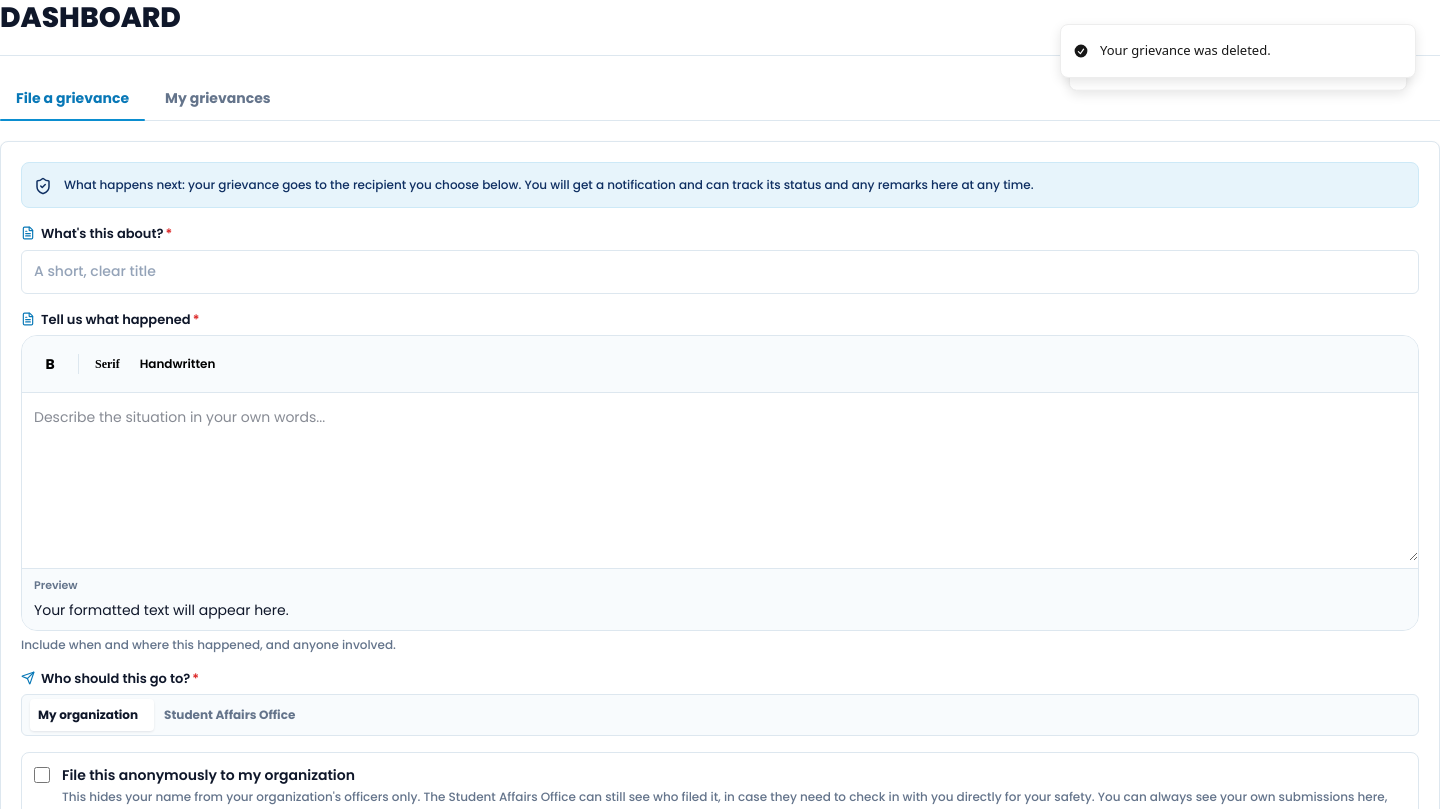
StudentGrievancesPage › deleting a grievance › shows the server message when the grievance was already reviewed
Click the tab "My grievances": (218, 98) [149,76,286,120]
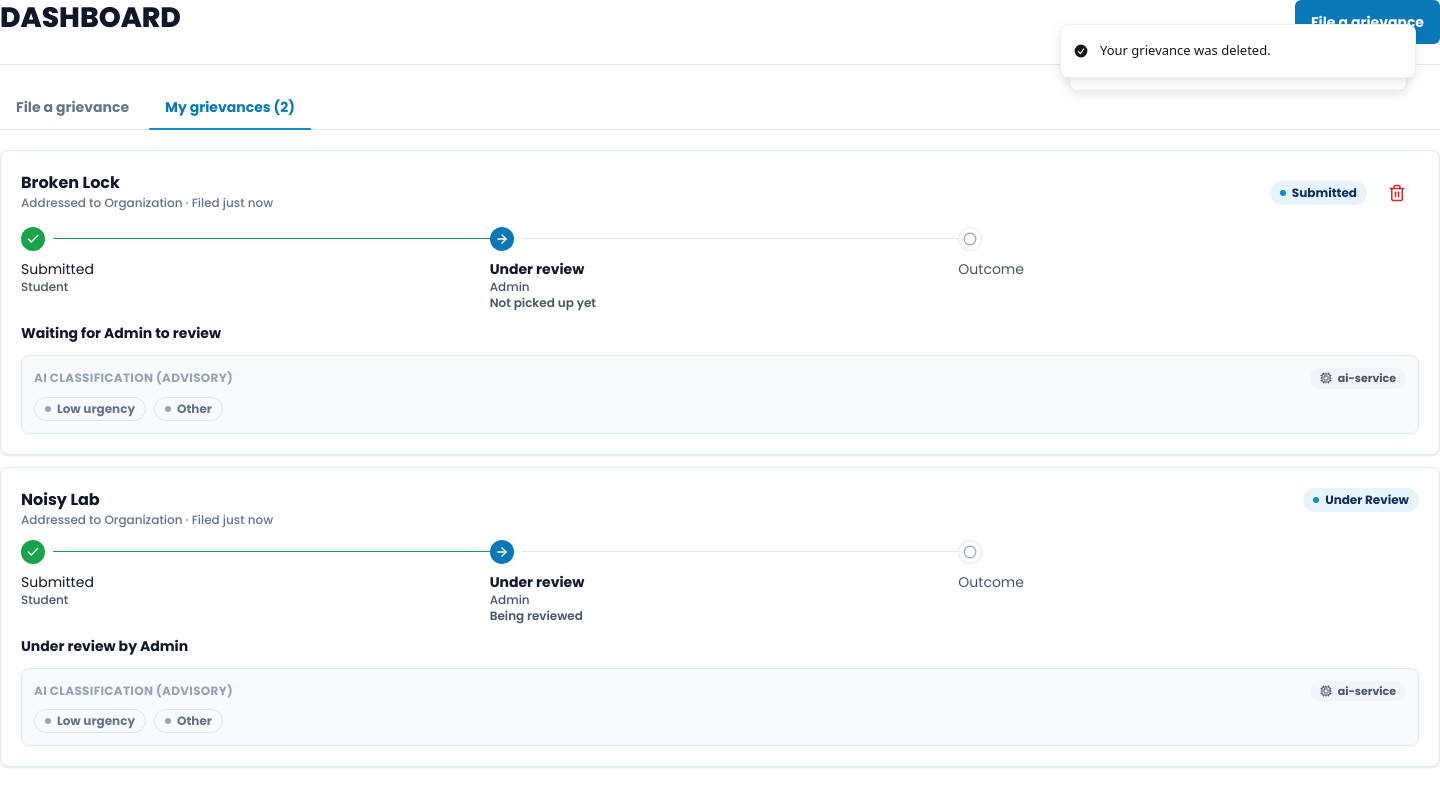
Click the button named "Delete grievance Broken Lock": (1397, 193) [1375,171,1419,215]
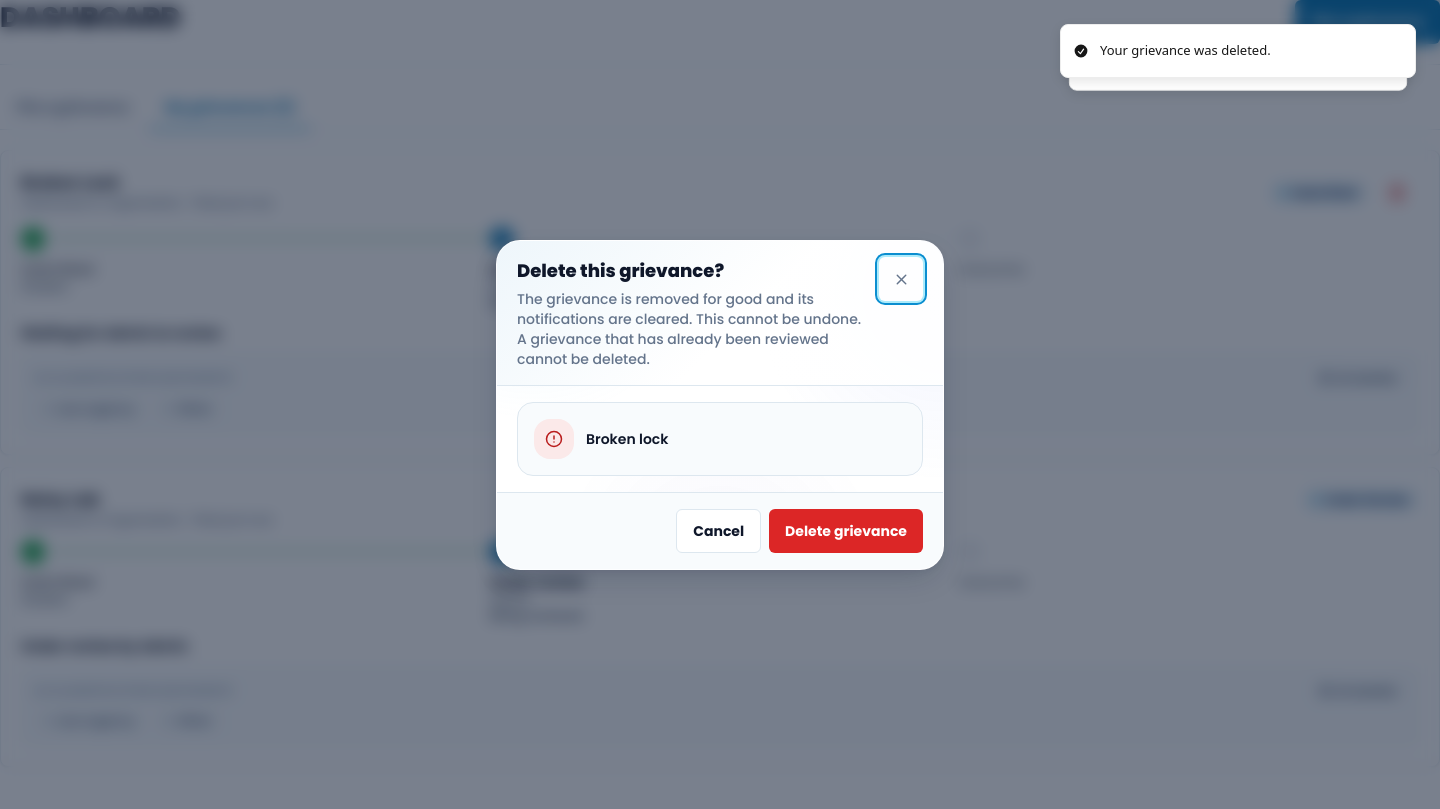
Click the button "Delete grievance": (846, 531) [769,509,923,553]
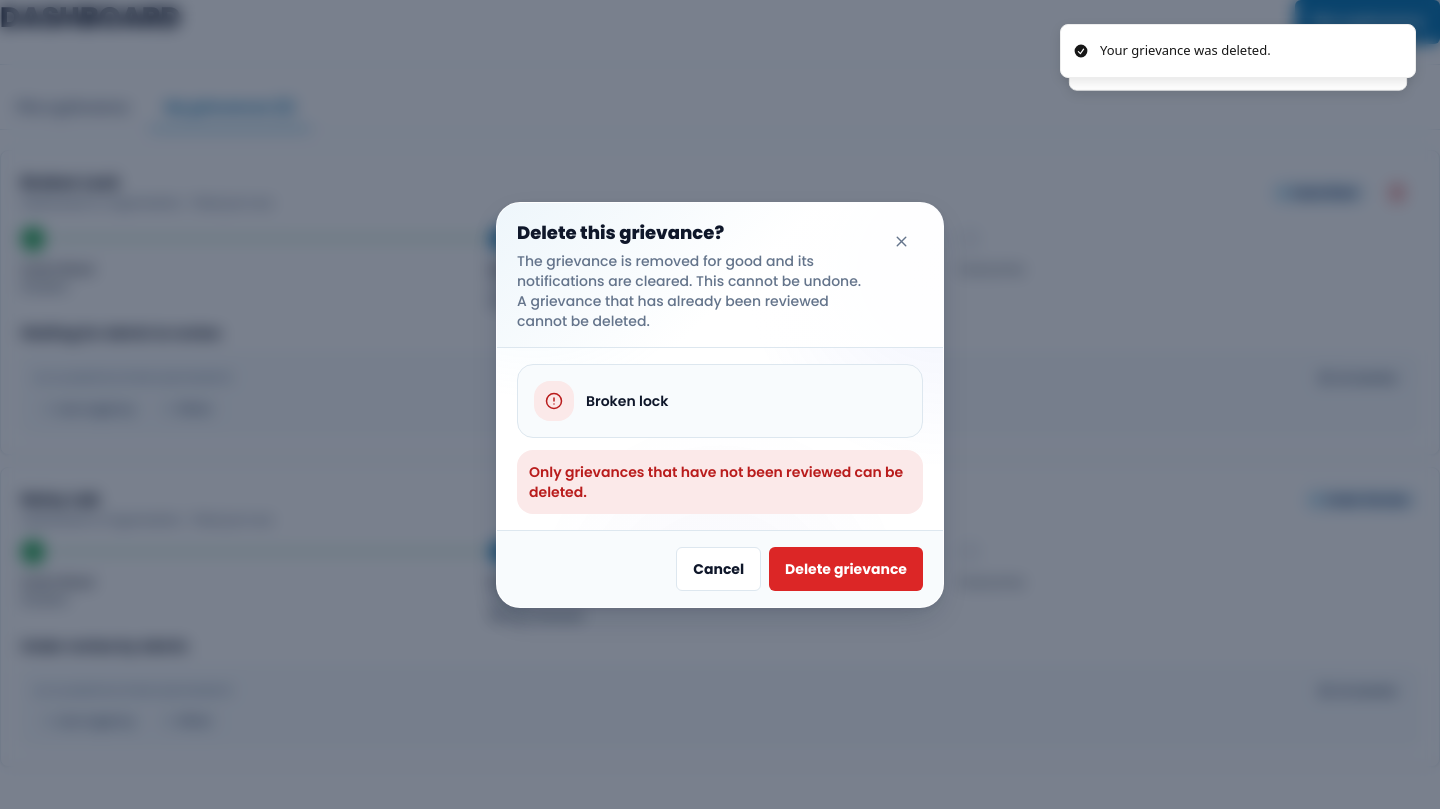
Expected: the message reads "Only grievances that have not been reviewed can be deleted.", [529,462,903,502]
